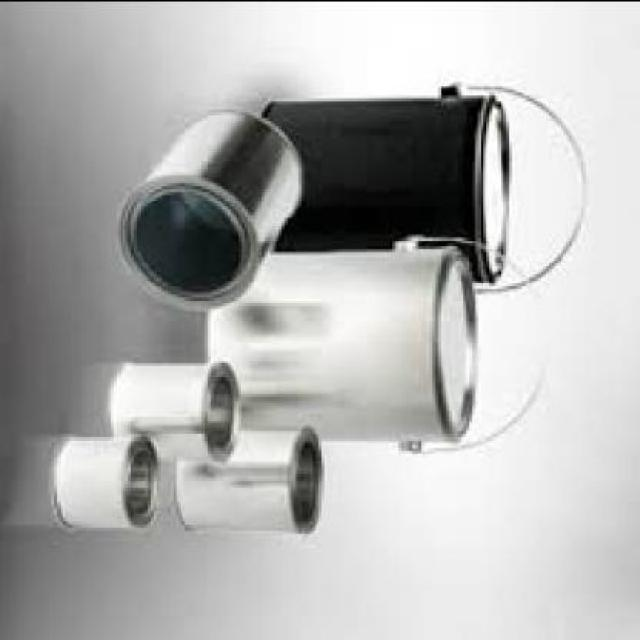METAL: (207, 244, 484, 436), (256, 91, 512, 278), (113, 102, 310, 304), (176, 424, 324, 528), (110, 356, 242, 458), (57, 432, 161, 526)
